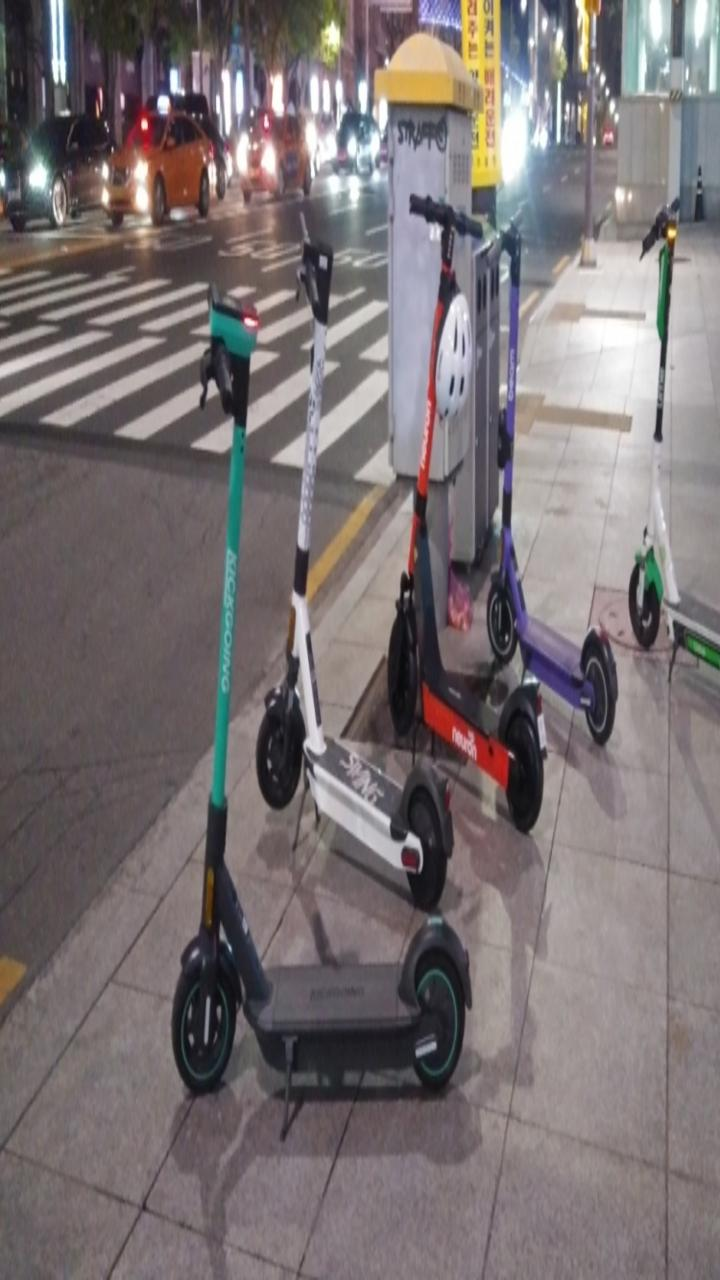scooter: (136, 273, 467, 1116), (254, 232, 483, 900), (379, 191, 580, 832), (494, 216, 636, 739), (627, 208, 720, 673)
vehicle: (84, 108, 244, 231), (1, 104, 114, 225), (230, 96, 330, 211)
